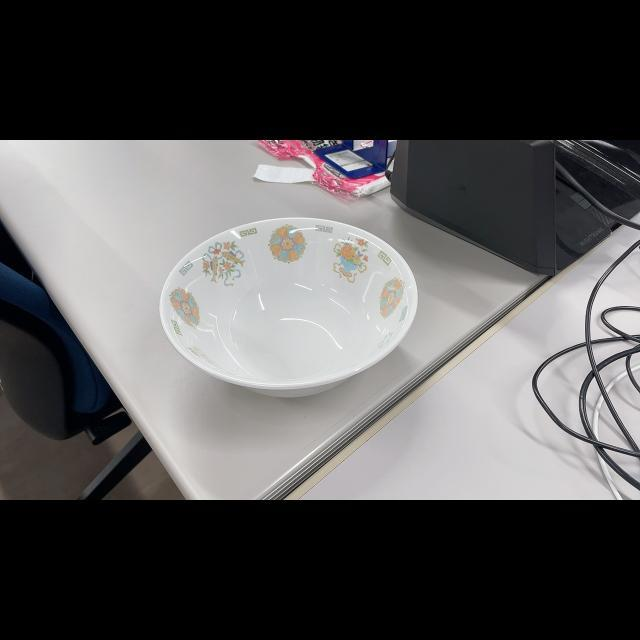plate: (158, 214, 420, 400)
